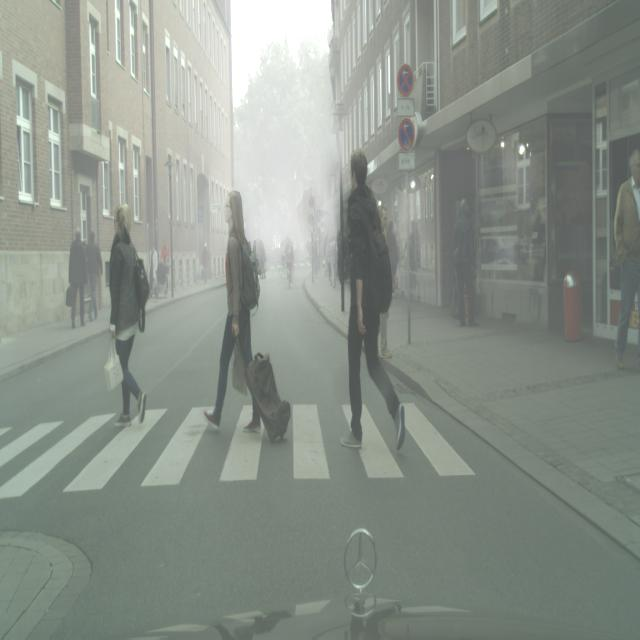car: (286, 239, 293, 289)
person: (340, 147, 403, 453), (203, 190, 263, 434), (108, 201, 148, 427), (613, 148, 640, 371), (378, 206, 400, 358), (453, 198, 478, 326), (68, 228, 88, 328), (86, 229, 103, 321), (408, 220, 421, 301), (158, 239, 171, 298), (326, 234, 336, 288), (200, 241, 211, 284), (311, 236, 319, 281)
